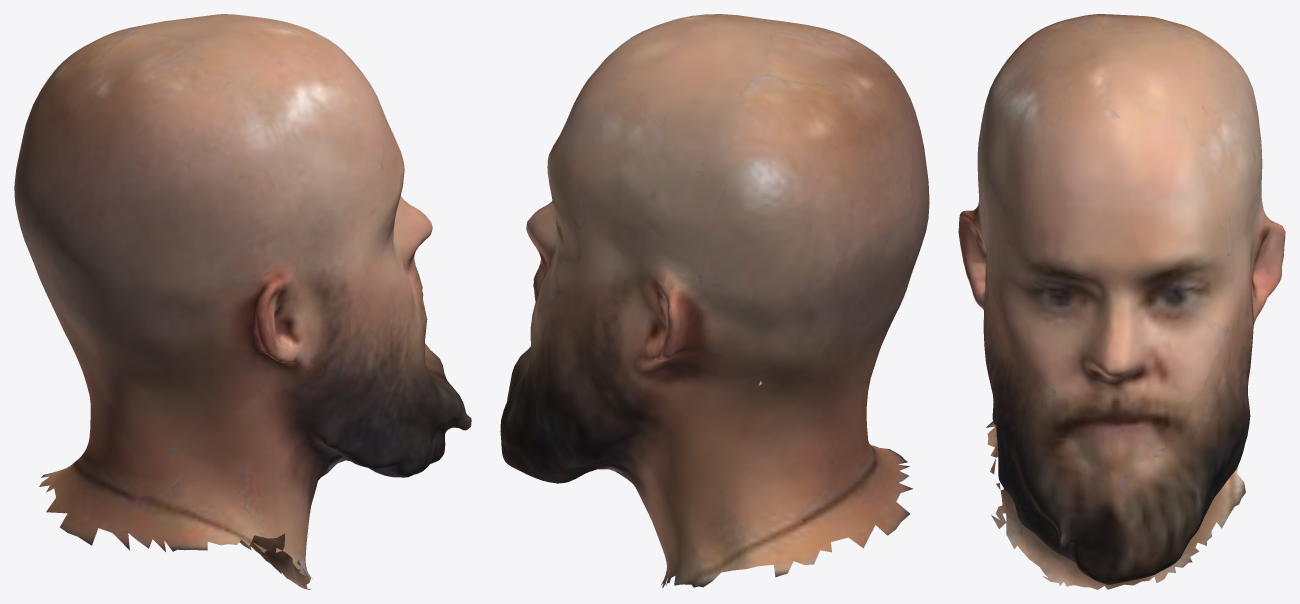
Rendered from David.glb.
The picture shows the model from 3 angles, left to right: view 1: azimuth 30°, elevation 25°; view 2: azimuth 150°, elevation 25°; view 3: azimuth 270°, elevation 25°; orthographic projection. The views are drawn at different scales.
Parts seen in each view (by area): view 1: eyeline; view 2: eyeline; view 3: eyeline.
Part boxes in pixels (x1,y1,x2,y2): eyeline: (14, 14, 471, 589); eyeline: (500, 14, 929, 587); eyeline: (958, 14, 1285, 589).
Bounding box in the file's own units: 0.322 × 0.4283 × 0.2447.
Materials: 2 (1 with a texture image).
